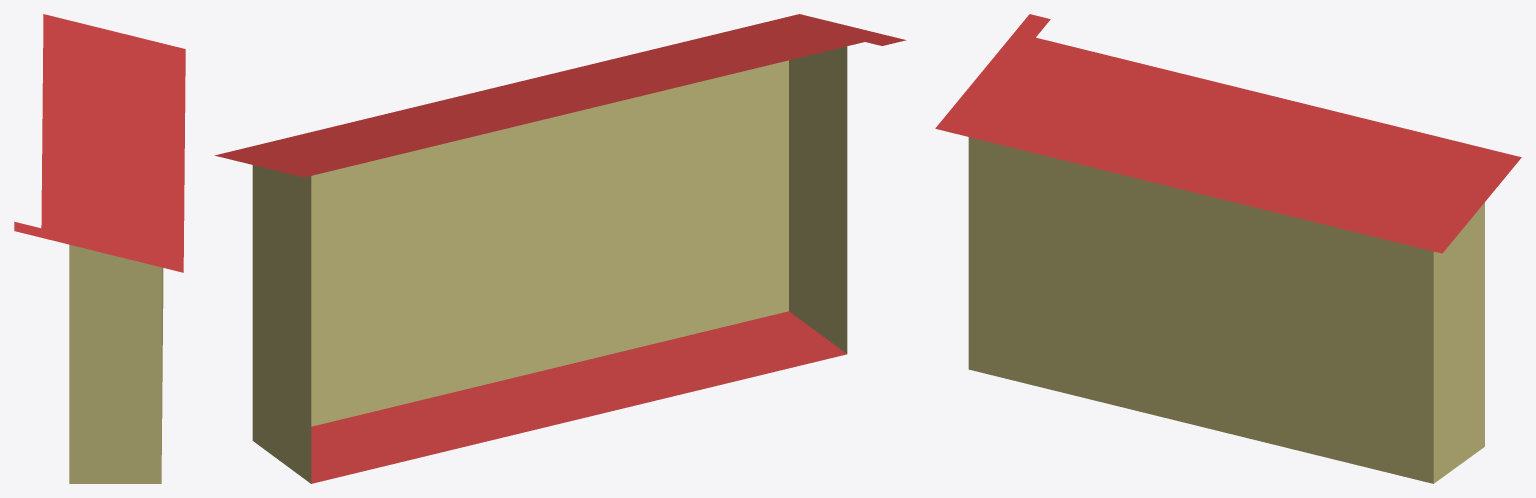
3 renders of one model, left to right at view 1: azimuth 30°, elevation 25°; view 2: azimuth 150°, elevation 25°; view 3: azimuth 270°, elevation 25°, orthographic. The views are drawn at different scales.
Bounding box in the file's own units: 13.94 × 17.86 × 9.76.
